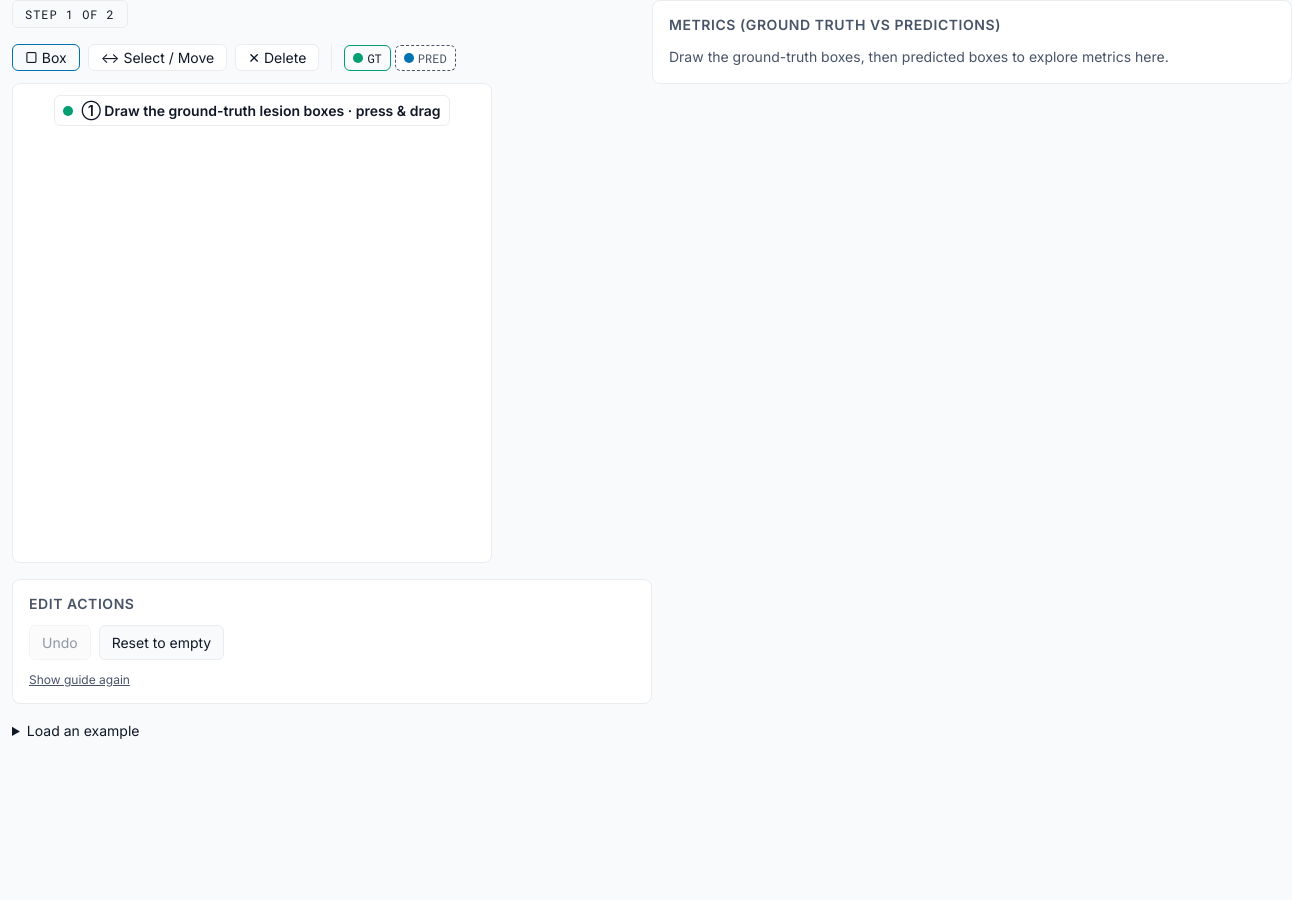
it: DetectionPlayground (guided empty boot) › after a GT box exists, advances to STEP 2 with the PRED prompt, still gated
This screenshot has width=1292, height=900.
Expected: the text "STEP 1 of 2" is shown, x1=12 y1=0 x2=128 y2=28
Press the mouse on the drawing named "Detection editor" at (252, 323), box x1=12 y1=83 x2=492 y2=563
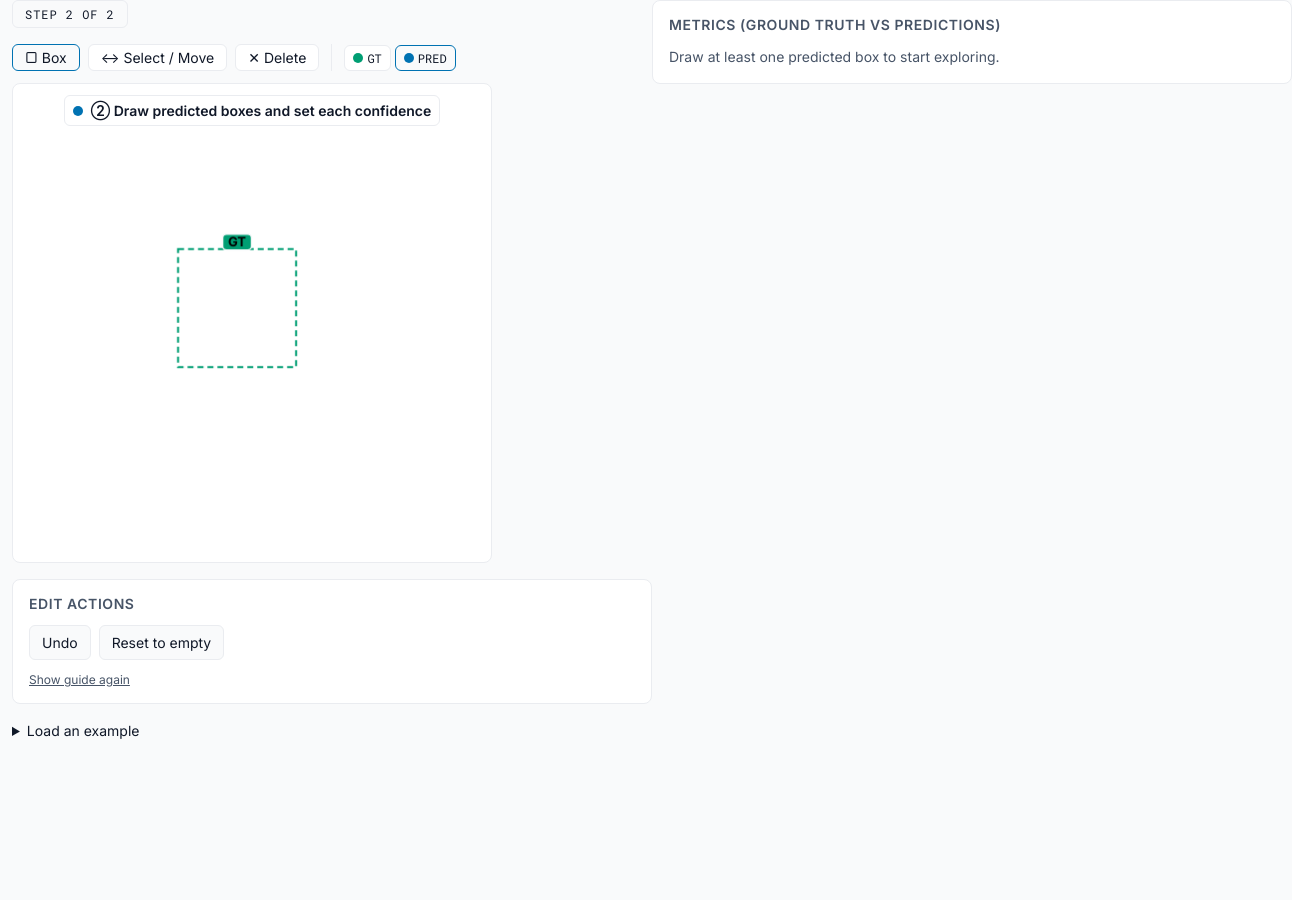
Expected: the text "STEP 2 of 2" is shown, x1=12 y1=0 x2=128 y2=28
Expected: the text "② Draw predicted boxes and set each confidence" is shown, x1=64 y1=95 x2=440 y2=126
Expected: the text "Draw at least one predicted box to start exploring." is shown, x1=669 y1=48 x2=1000 y2=65
